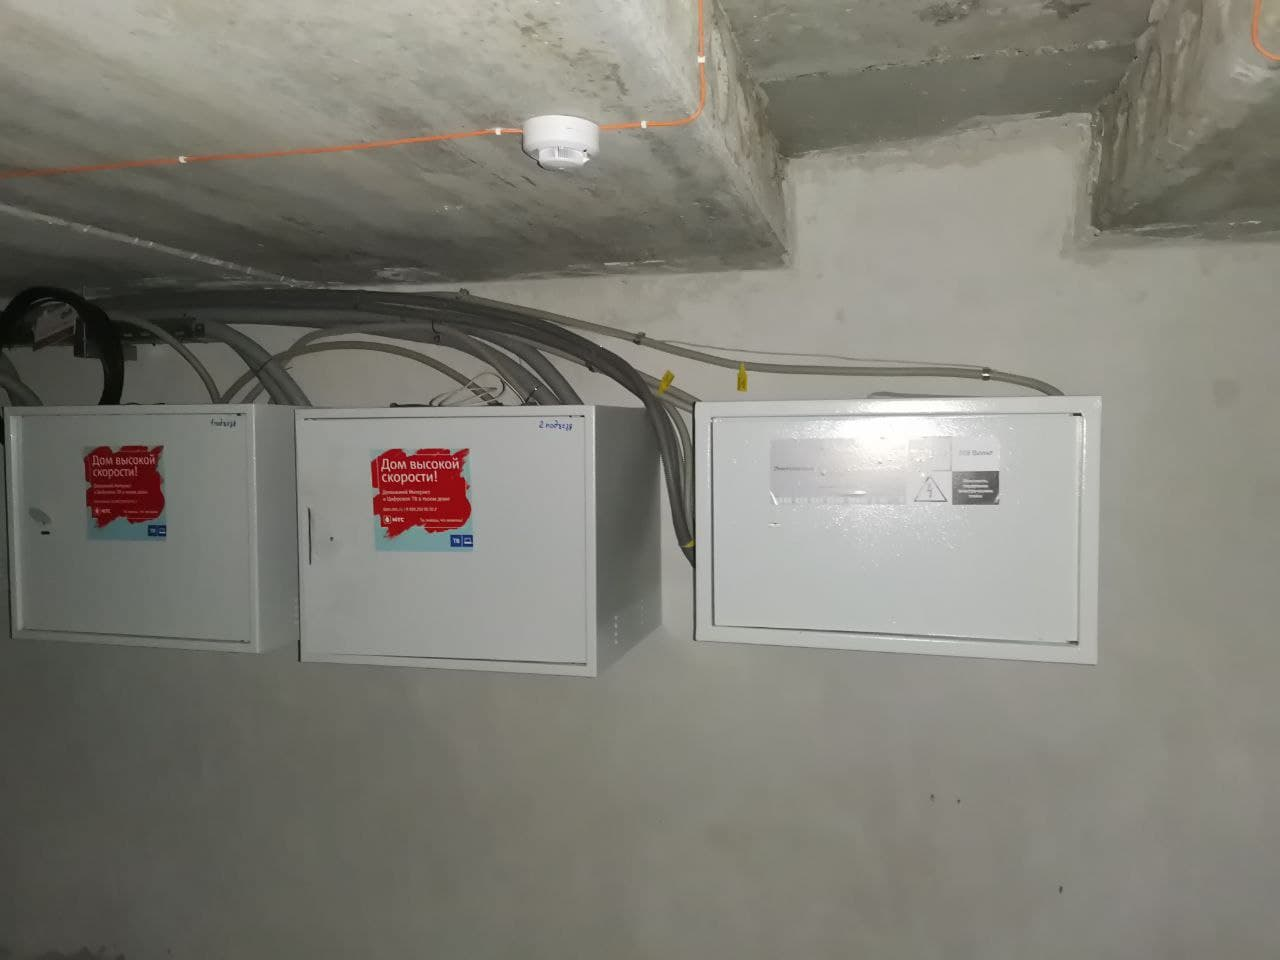shta-7m: (681, 385, 1113, 674)
